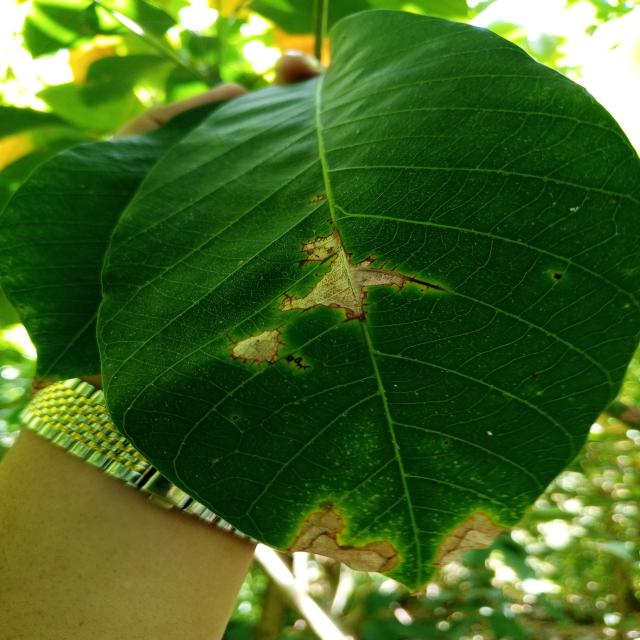Colletotrichum: (554, 274, 562, 280), (372, 220, 377, 222)
Corynespora: (407, 274, 447, 294), (285, 351, 310, 370), (275, 286, 297, 302), (296, 303, 319, 317), (294, 256, 320, 268), (355, 254, 377, 266), (225, 331, 238, 348), (318, 254, 337, 264), (379, 261, 390, 269), (390, 264, 401, 271)
Leaf-Blight: (284, 229, 407, 317), (285, 510, 399, 573), (433, 512, 505, 568), (232, 330, 278, 361)
